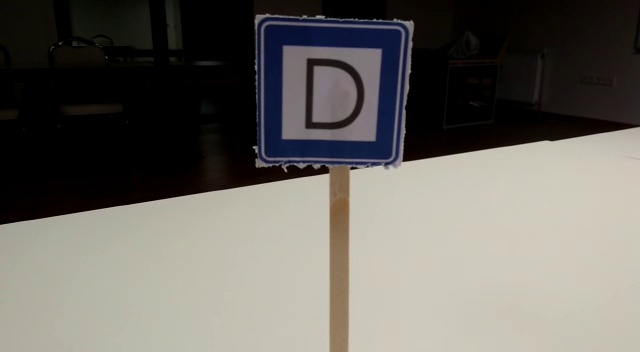durak: (259, 21, 407, 162)
